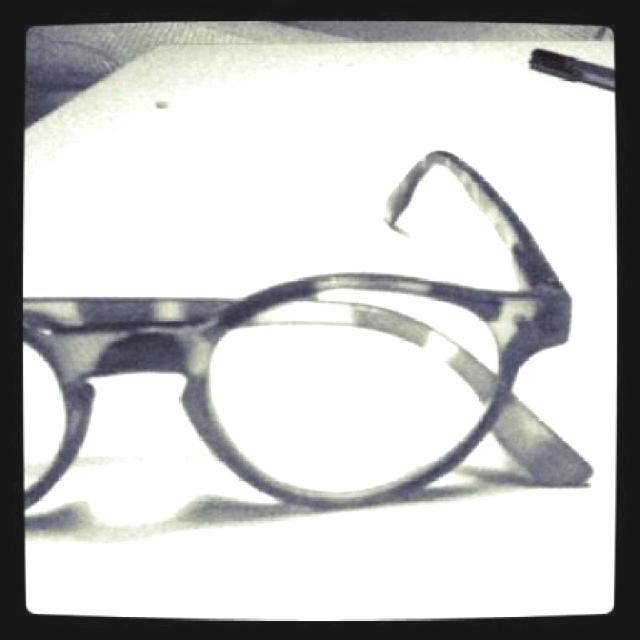glasses: (23, 148, 594, 504)
